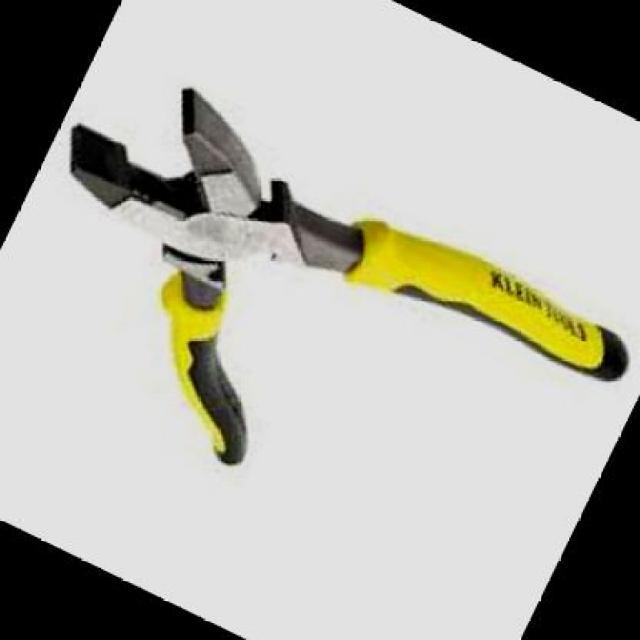pliers: (0, 9, 638, 630)
